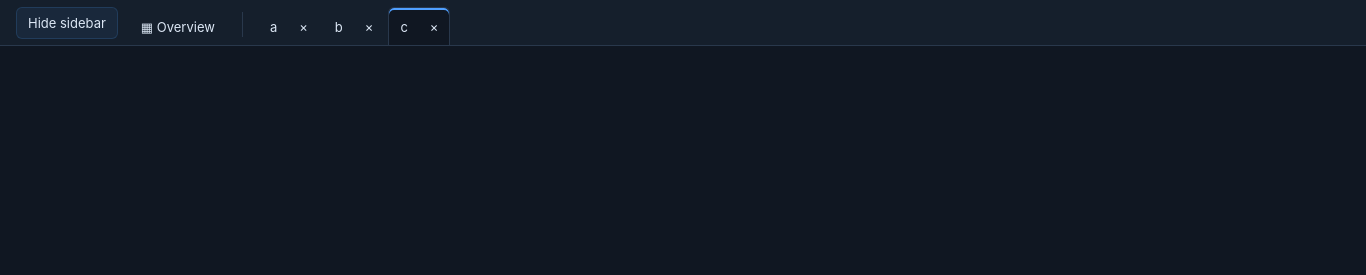
it: closes the current tab and tabs to its right using their displayed order
The width and height of the screenshot is (1366, 275).
Later steps or results of the test are not shown.
Right-click the element "b" at (354, 26), box [323,7,385,45]
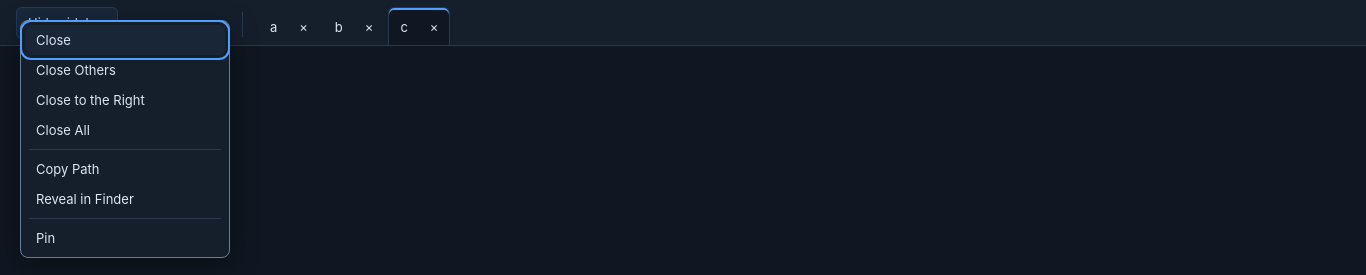
Click the menu item "Close to the Right". click: click(125, 100)
box: [25,85,225,115]
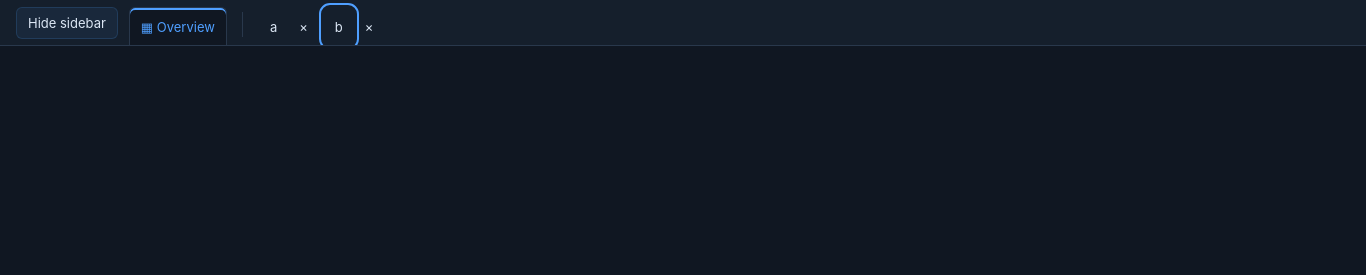
Right-click the element "b" at (354, 26), box [323,7,385,45]
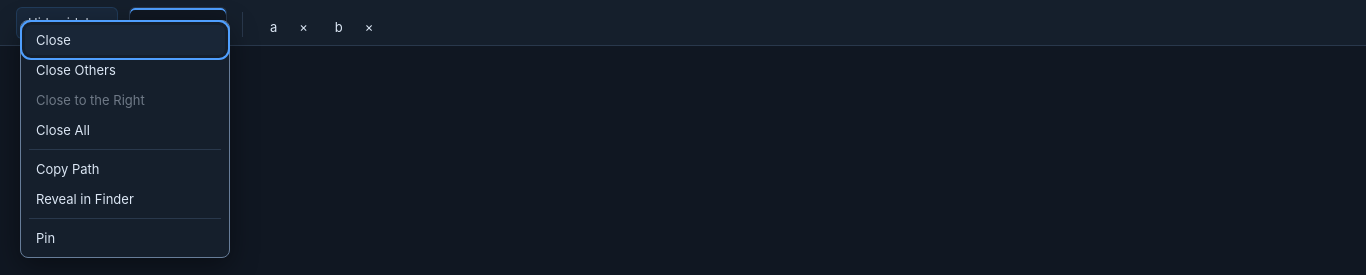
Check: the menu item "Close to the Right" is disabled, box [25,85,225,115]
